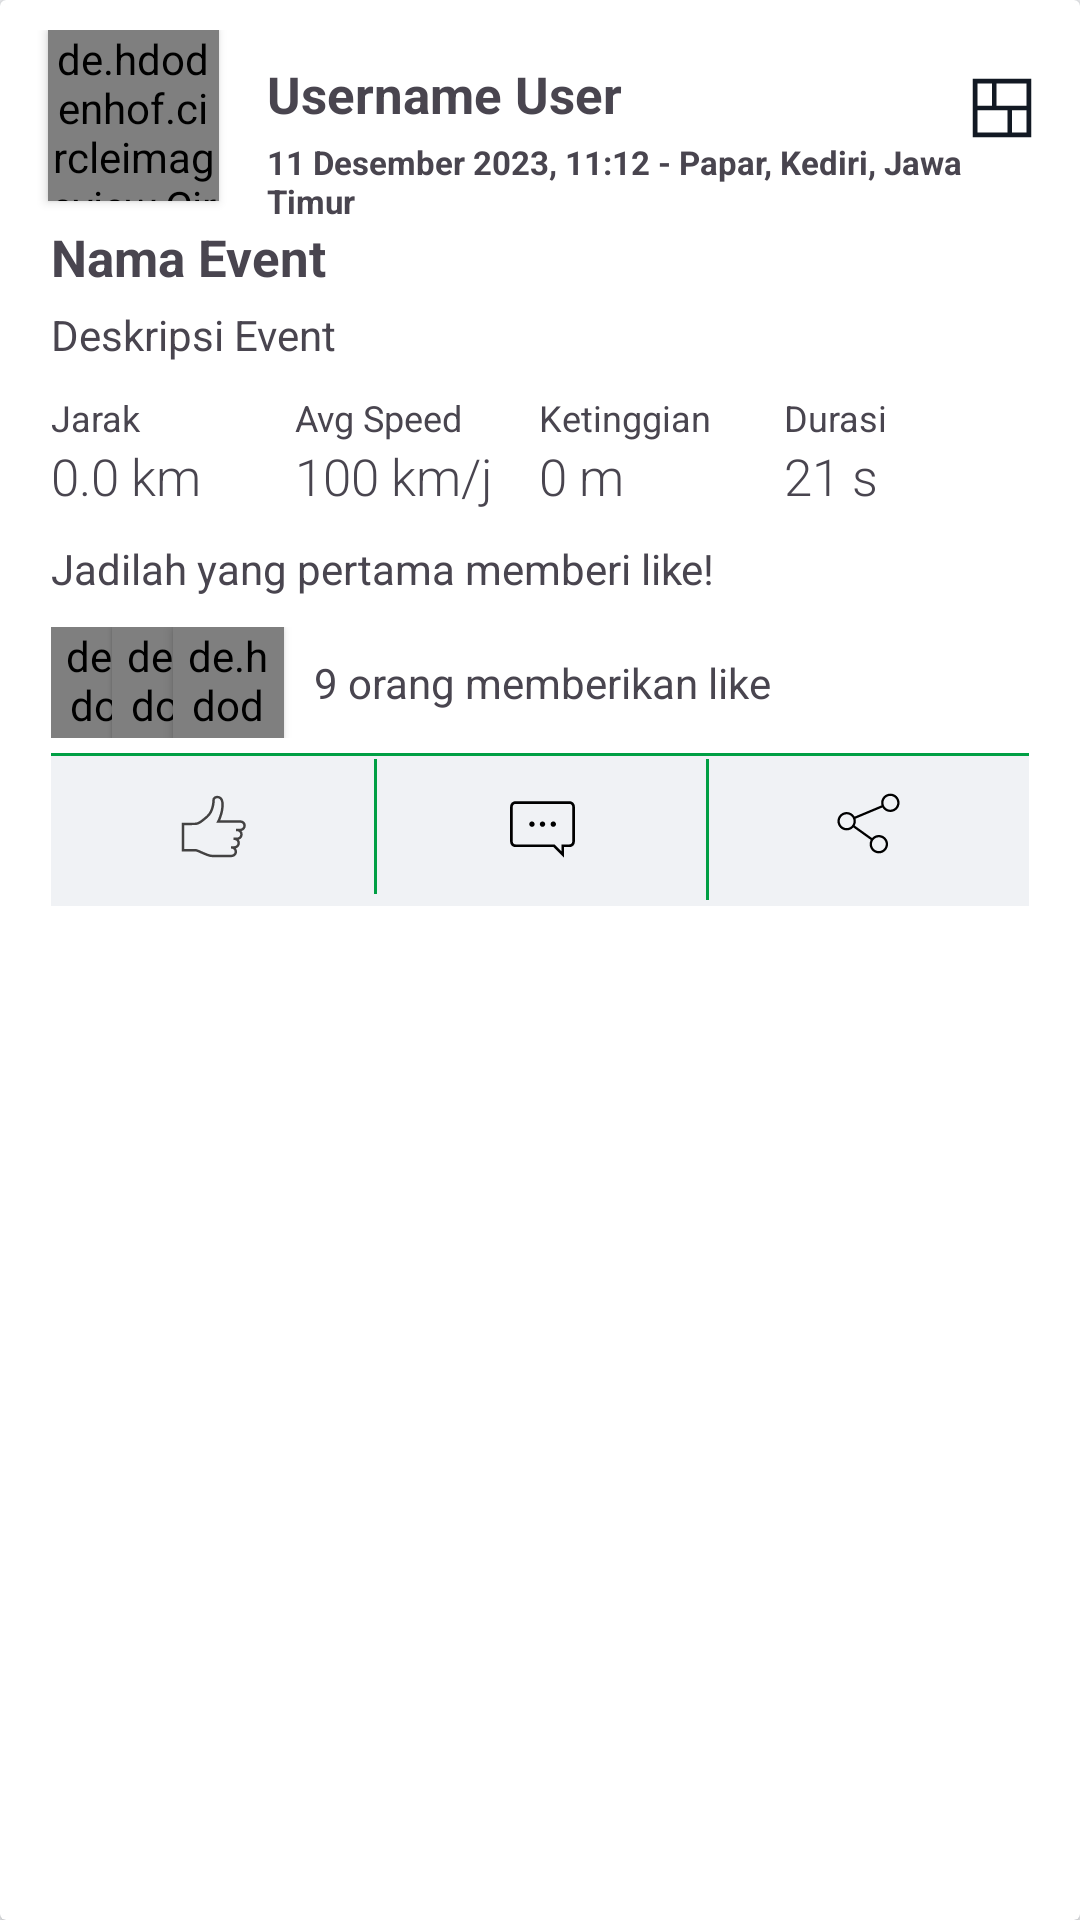

Locate icon controls on the screen. Image size 1080 × 1920, boxes as (x1=x1, y1=y1, x2=x2, y2=y2).
comment: (x1=510, y1=801, x2=575, y2=858)
dashboard: (x1=972, y1=78, x2=1032, y2=138)
share: (x1=837, y1=793, x2=900, y2=854)
